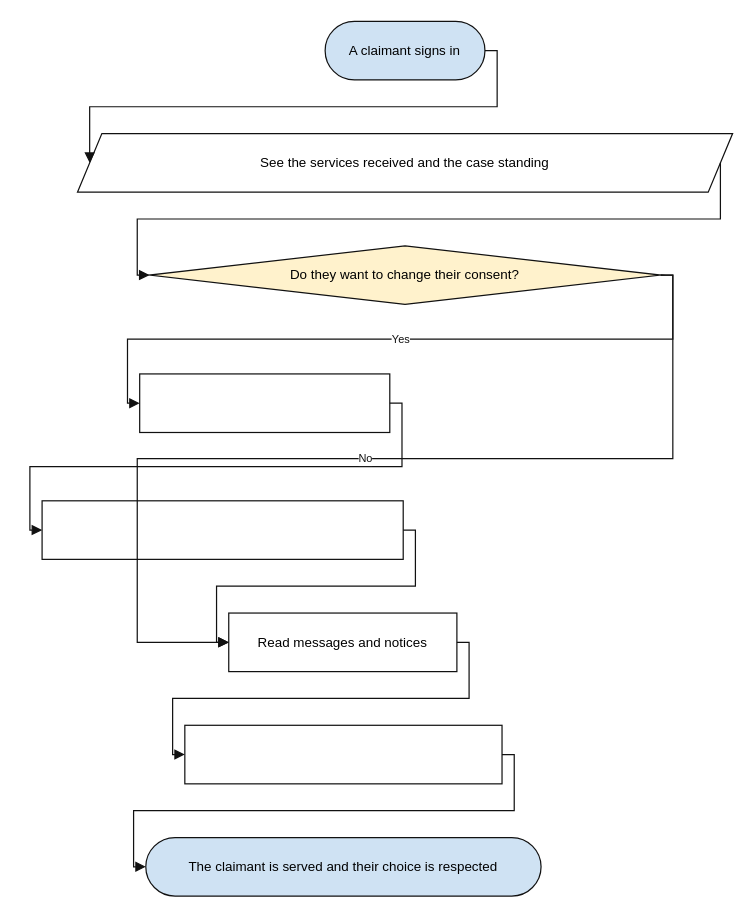
The diagram is 754 pixels wide and 917 high, and some of its shapes have lost their labels. Each missing label, with the centre of its shape:
Apply the choice to the records others may see: the point at 222,529
Record the new consent choice: the point at 264,402
Show anything that still needs an answer: the point at 343,754
